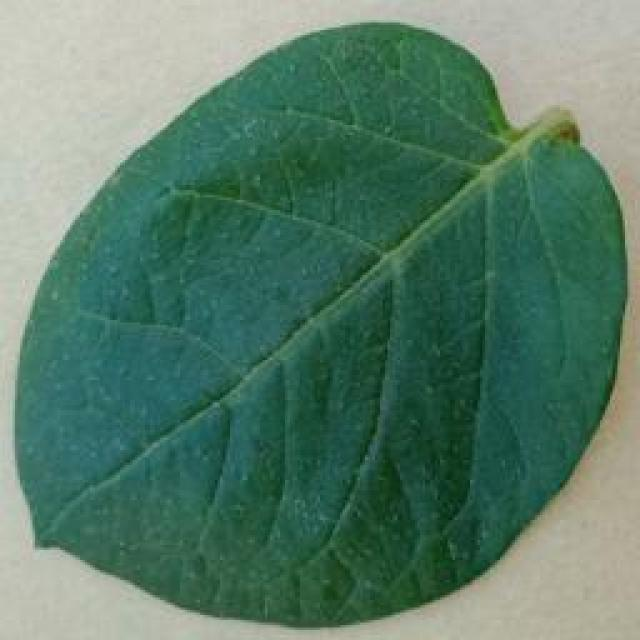Potato_Healthy: (15, 25, 618, 624)
